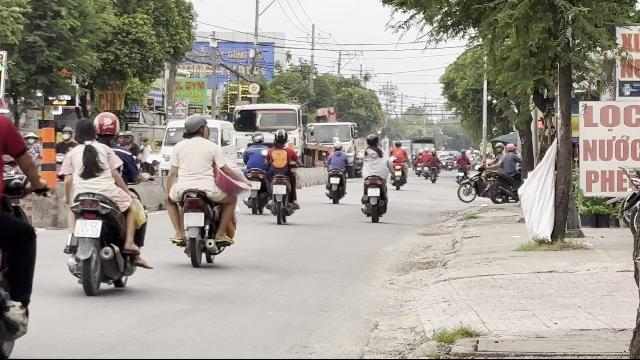helmet: (92, 111, 120, 143), (182, 114, 208, 138)
licenseplate: (74, 219, 100, 236), (184, 213, 204, 227)
motorcyclist: (58, 111, 150, 295), (162, 113, 240, 267)
nohelmet: (73, 118, 95, 142)
